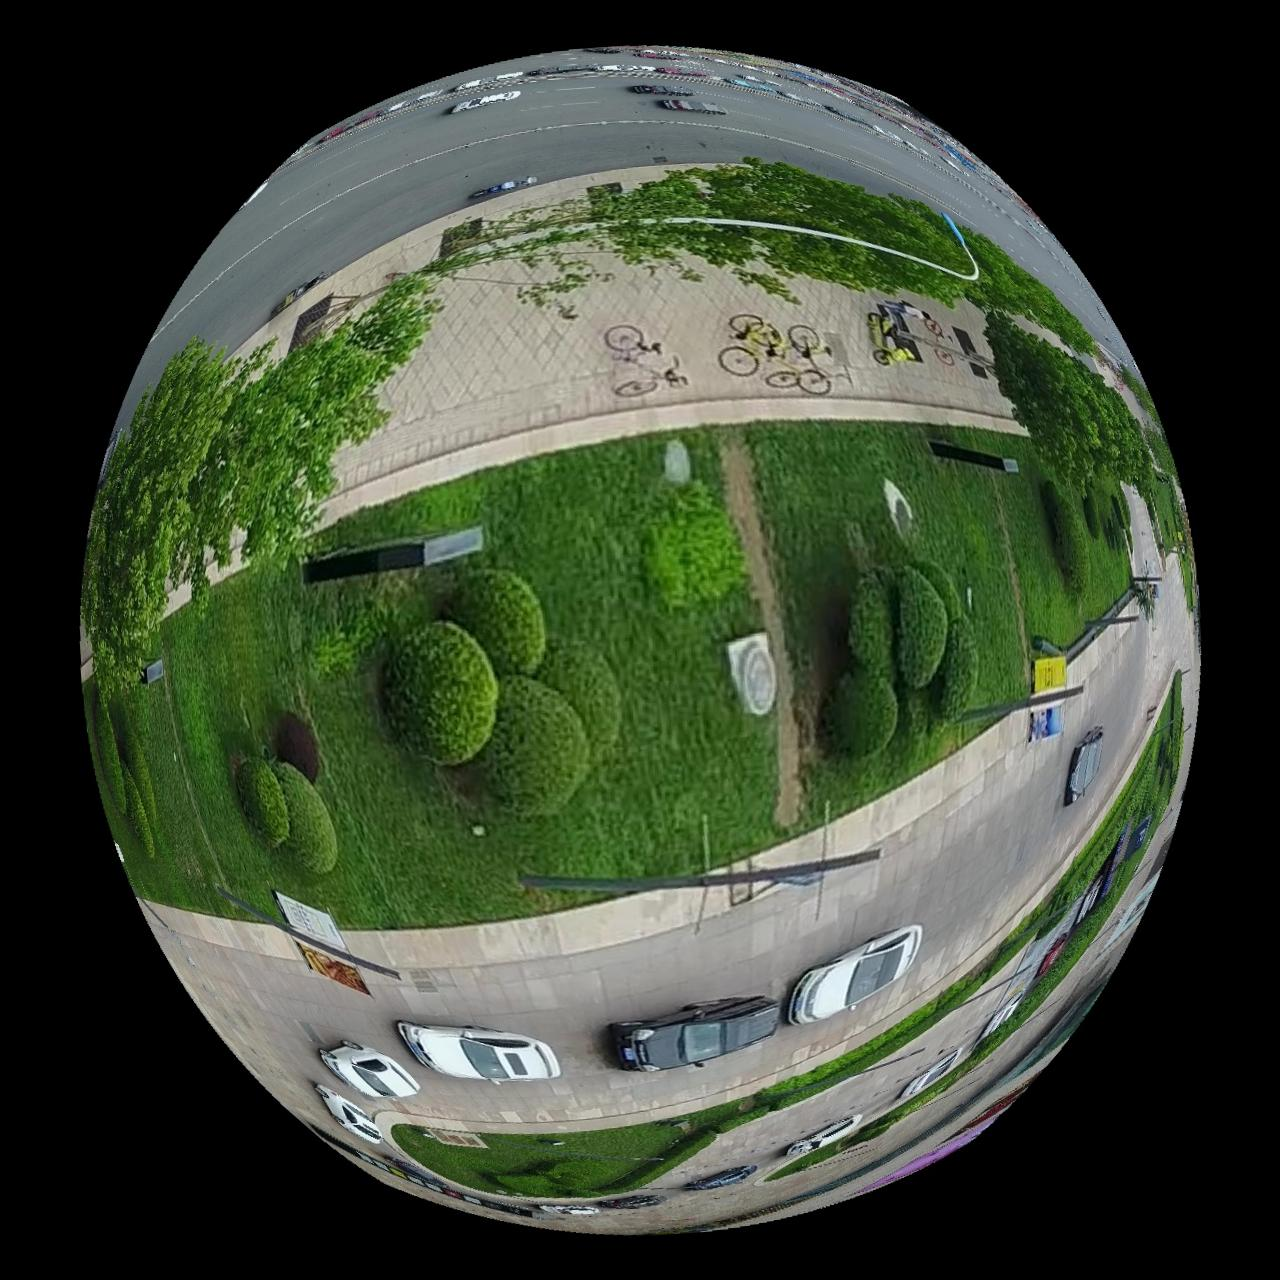cars: (788, 926, 921, 1027), (608, 998, 778, 1075), (395, 1023, 558, 1087), (318, 1043, 418, 1099), (312, 1087, 380, 1146), (783, 1117, 862, 1159), (1065, 727, 1104, 806), (682, 1166, 756, 1196), (594, 1197, 666, 1213)
trees: (82, 273, 438, 665), (468, 159, 1092, 353), (985, 311, 1155, 495), (452, 676, 588, 818), (383, 622, 496, 765), (640, 482, 743, 608), (533, 642, 620, 762), (445, 570, 544, 674), (822, 670, 898, 760), (896, 566, 948, 689), (278, 777, 334, 876), (1042, 482, 1090, 597), (928, 618, 979, 723), (847, 570, 894, 682), (233, 760, 287, 847), (887, 685, 938, 765), (89, 695, 122, 813), (118, 719, 152, 824), (912, 560, 962, 622), (272, 713, 315, 783), (120, 769, 151, 859)
